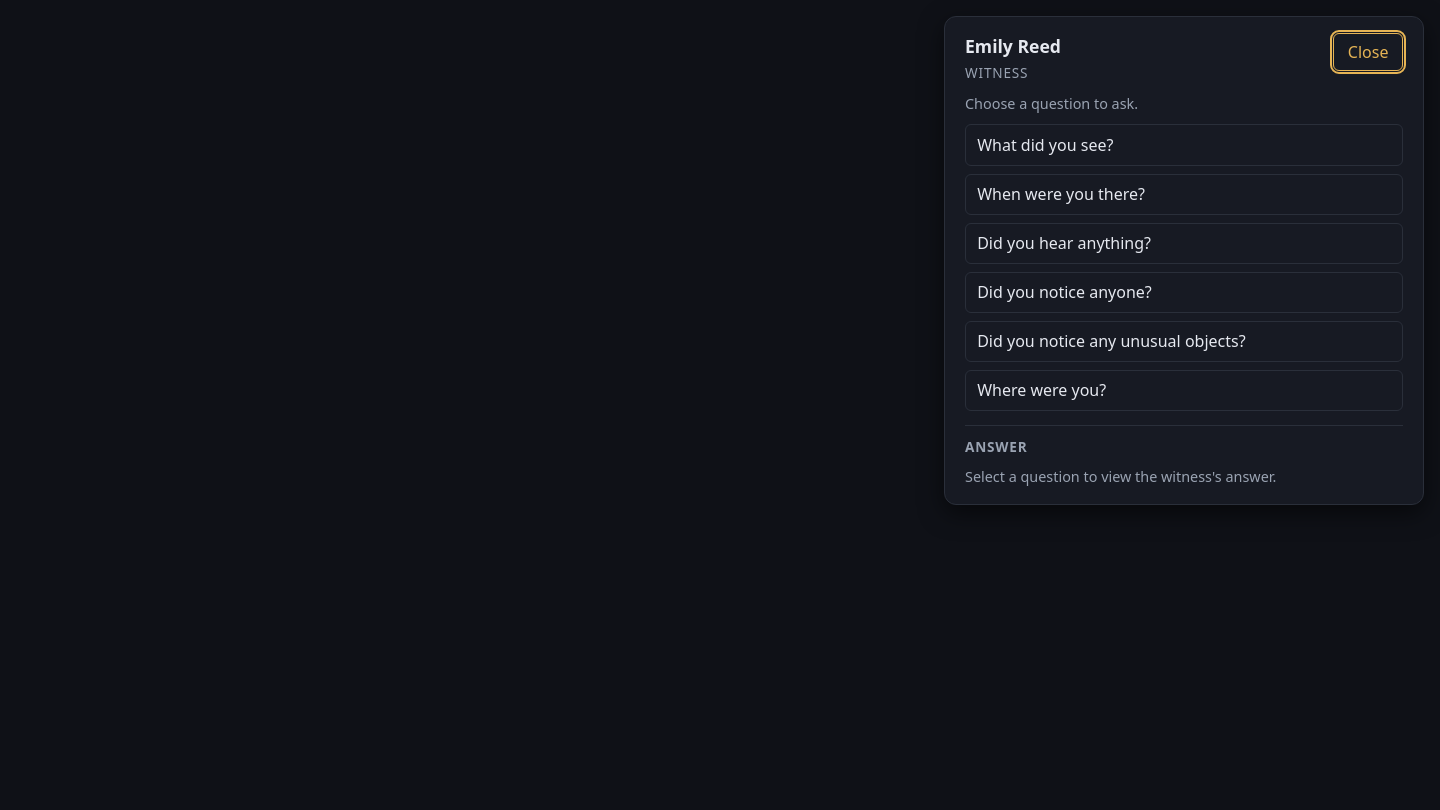
Test: WitnessPanel — interaction (jsdom) › renders a NEUTRAL answer cleanly (no observations list, no discovery panel)
Click the button "Did you hear anything?": (1064, 243) [965,223,1403,264]
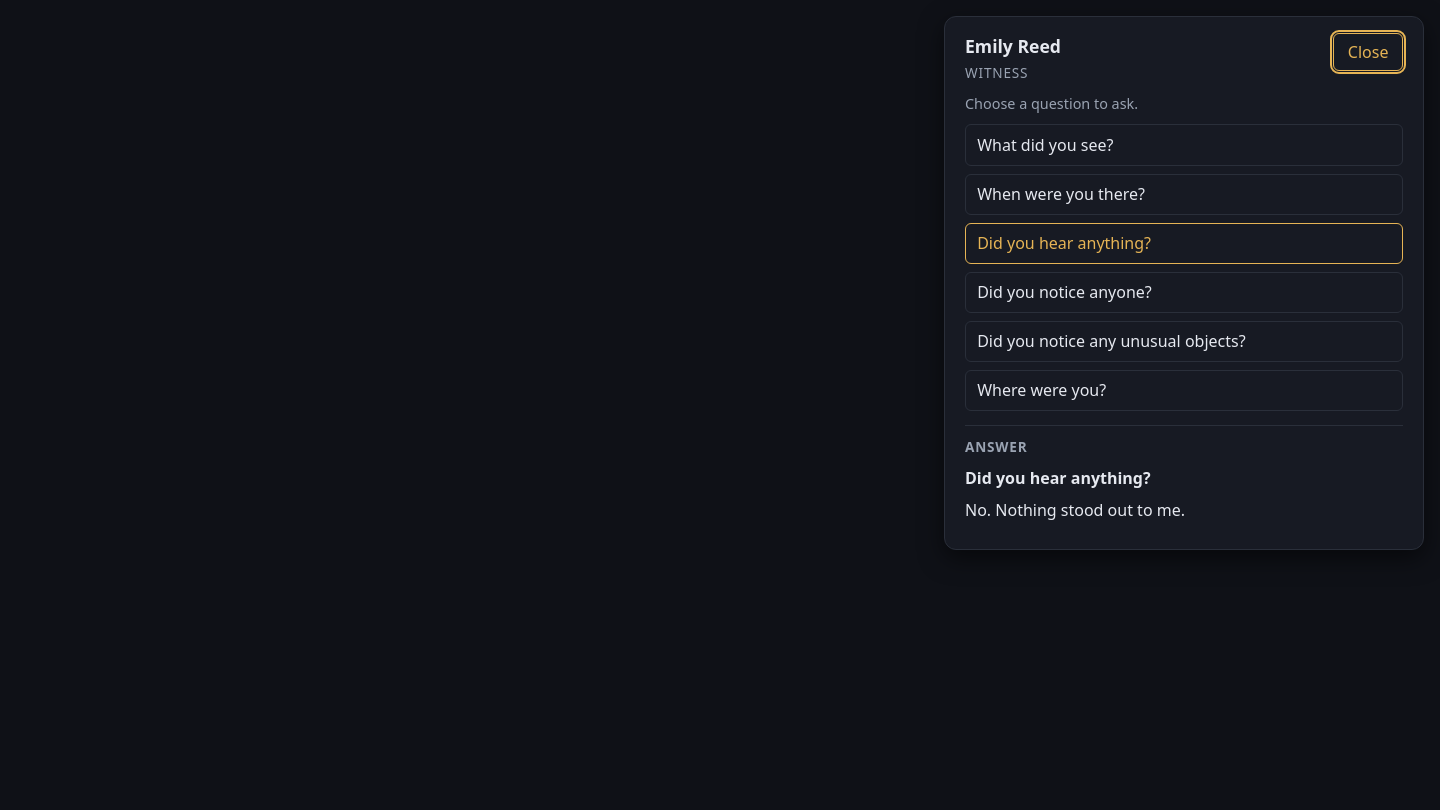
Check: the text with test id "witness-statement-summary" shows "Nothing stood out to me", box [965,499,1185,521]
